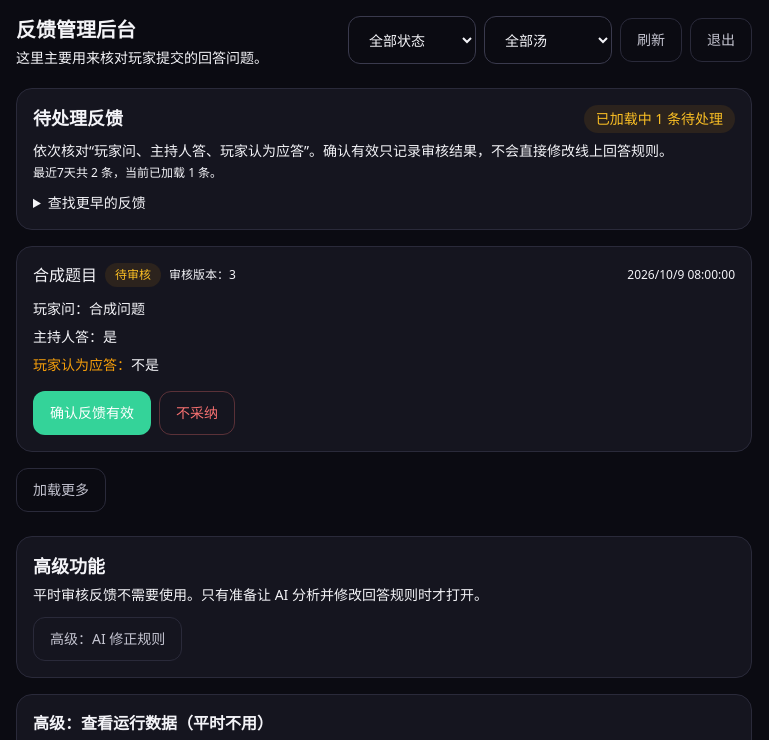
Test case: an uncertain review fetch times out without retry or inventing approval
Click the button "确认反馈有效" at (92, 413), box top-left (33, 391), bottom-right (151, 435)
Wait 30001 ms
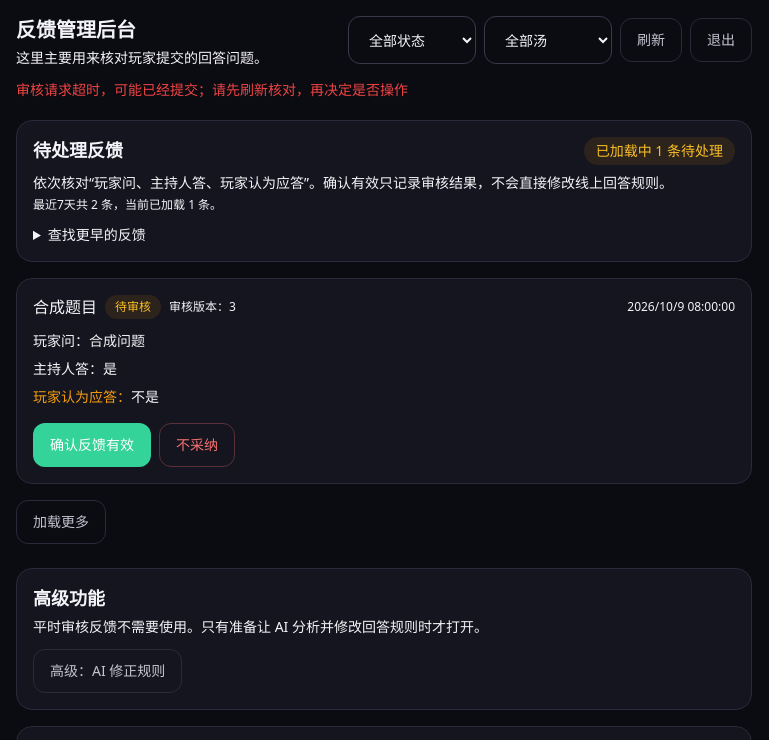
Check: the button "刷新" is enabled, box top-left (620, 18), bottom-right (682, 62)
Check: the text "审核请求超时，可能已经提交；请先刷新核对，再决定是否操作" is shown, box top-left (16, 80), bottom-right (408, 99)
